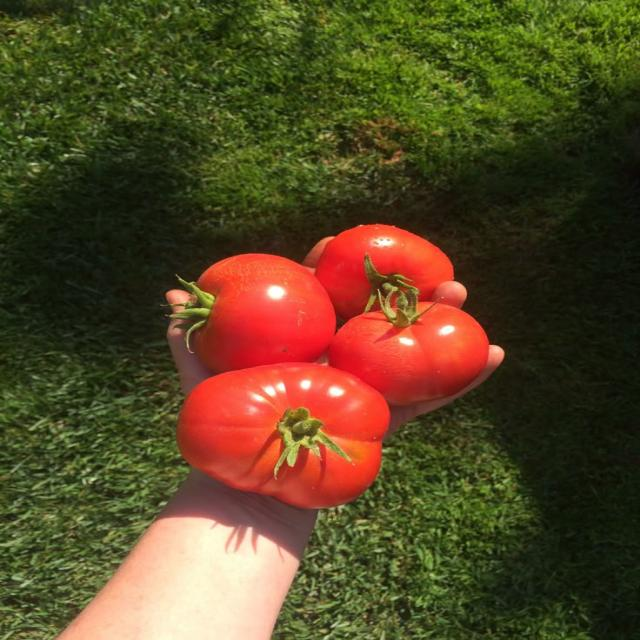tomato: (177, 363, 389, 508), (172, 254, 335, 372), (328, 303, 488, 405), (316, 225, 453, 320)
